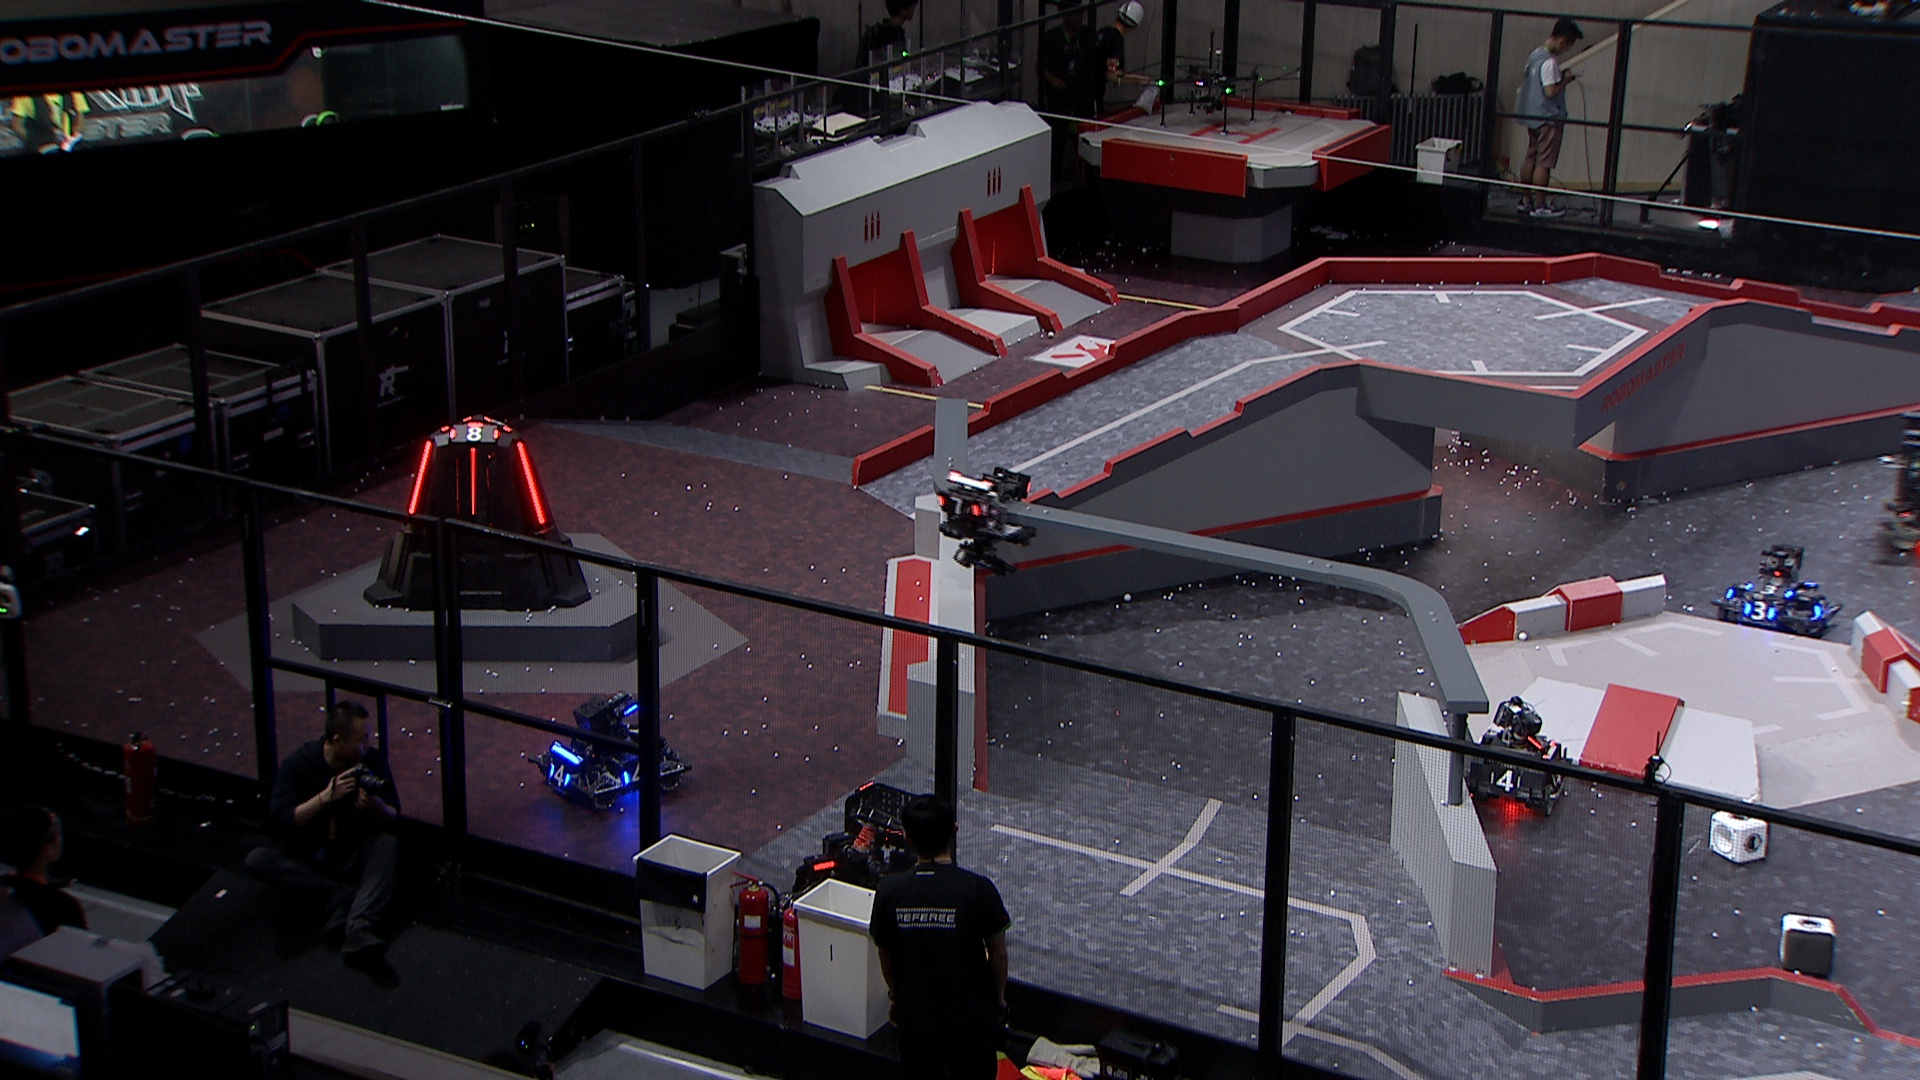armor: (514, 440, 550, 527), (406, 439, 434, 514), (447, 422, 498, 446), (935, 495, 982, 520), (1745, 580, 1797, 603), (468, 447, 480, 520), (1489, 770, 1523, 793), (1742, 603, 1779, 622), (547, 764, 572, 789), (1813, 597, 1833, 622), (621, 764, 642, 785)
base: (365, 414, 593, 612)
car: (774, 783, 965, 951), (524, 692, 692, 812), (1465, 694, 1576, 822), (1706, 541, 1845, 640), (1876, 411, 1920, 562)
watcher: (934, 465, 1035, 578)
